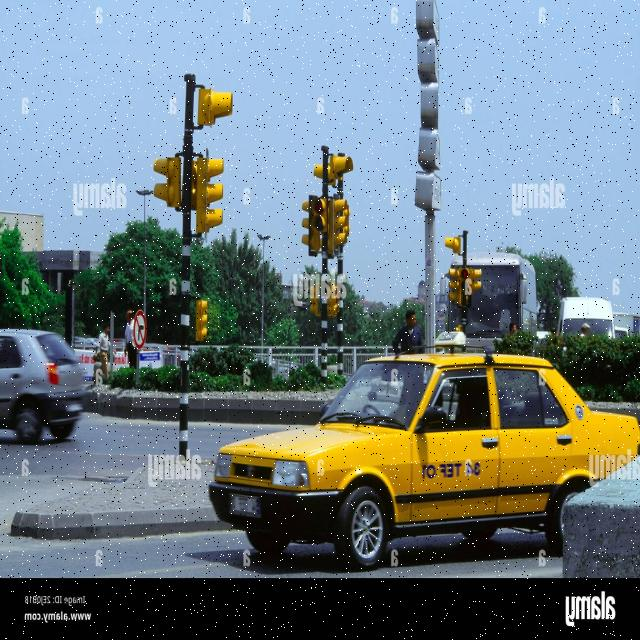car: (209, 354, 639, 568)
